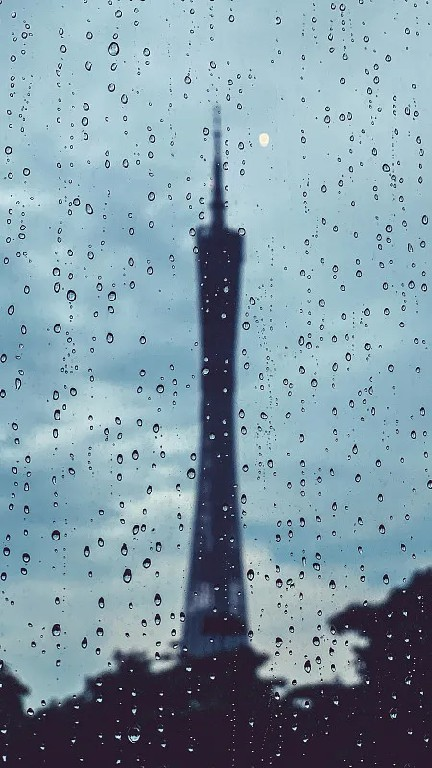Canton: (170, 104, 259, 669)
